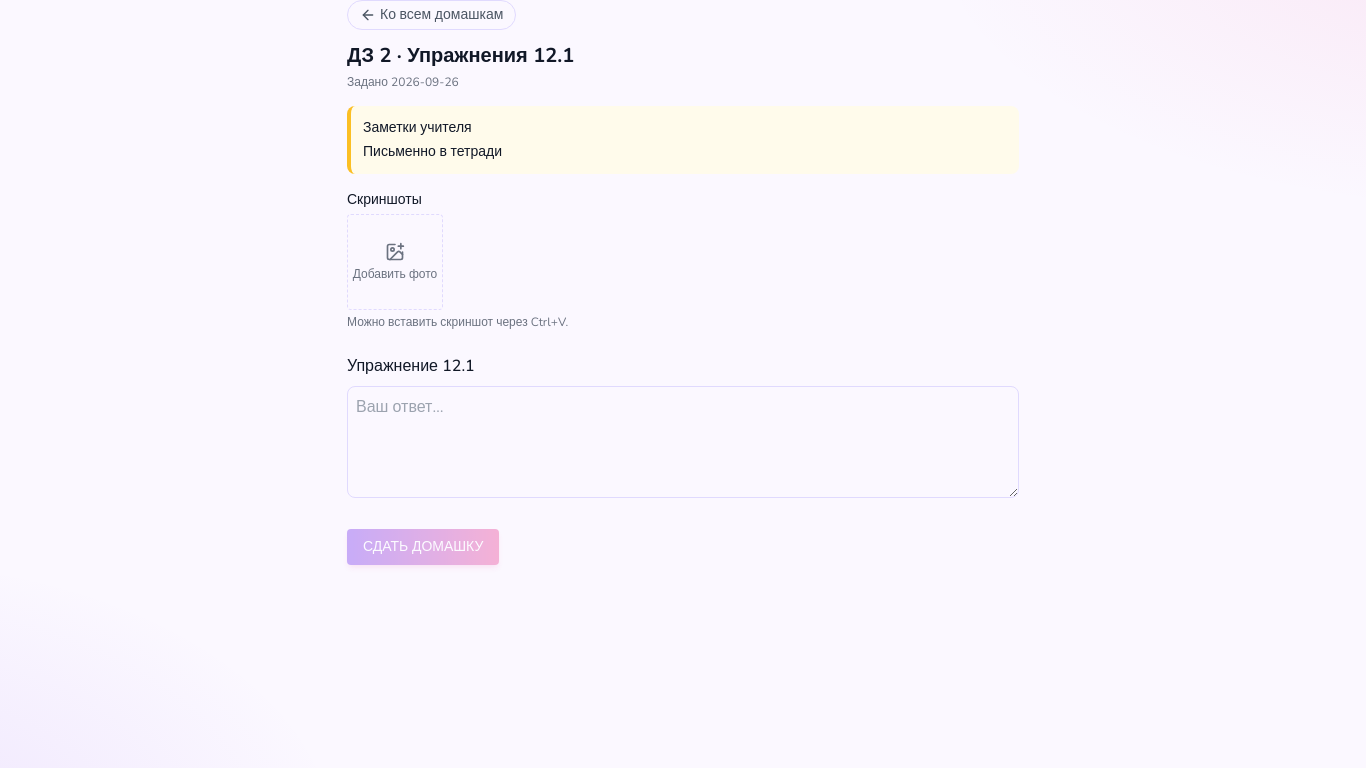
Test case: HomeworkRunnerPage with free-text homework › shows notes, saves a typed answer, and submits for review
Check: the text "Письменно в тетради" is shown, box [363,142,502,161]
Type "I was at home." into the text box named "Ответ: Упражнение 12.1" at {"x": 683, "y": 442}, box [347,386,1019,498]
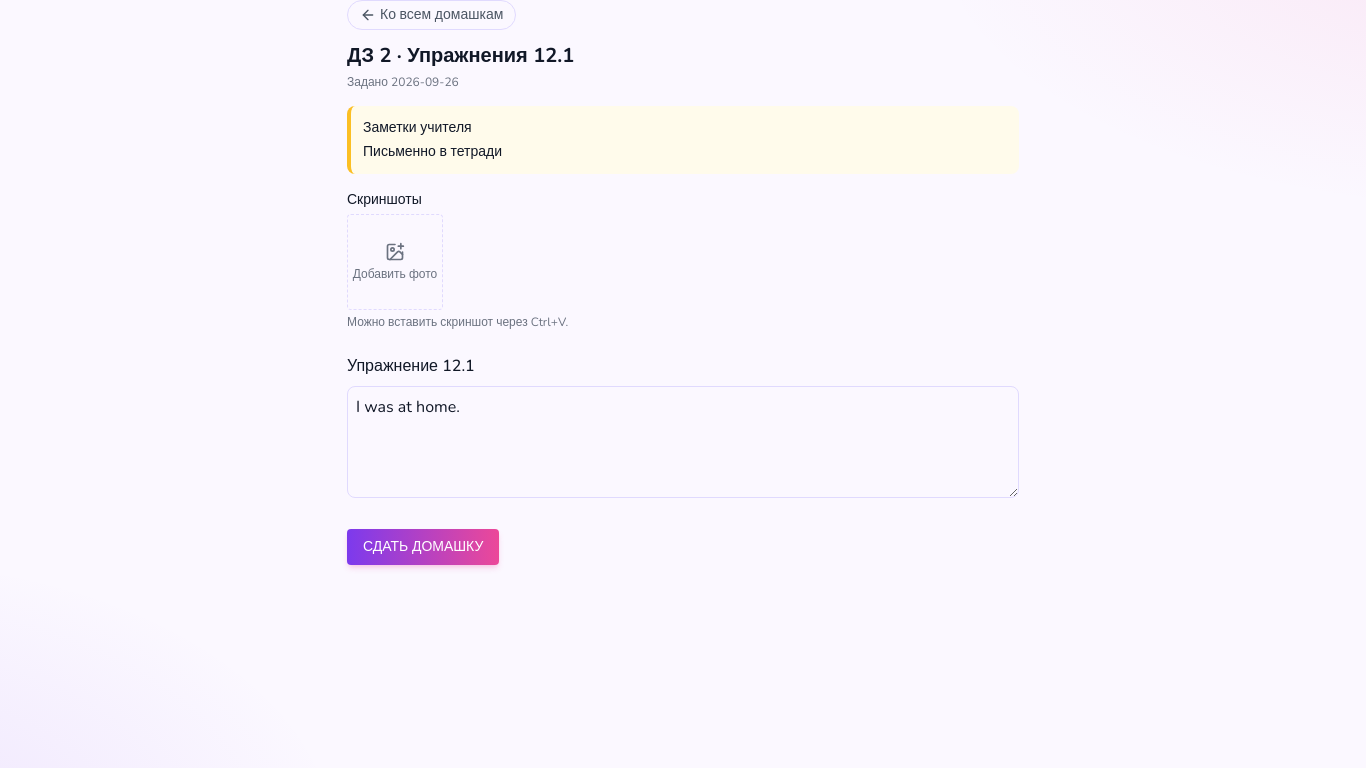
Click the button "СДАТЬ ДОМАШКУ" at {"x": 423, "y": 547}, box [347,529,499,565]
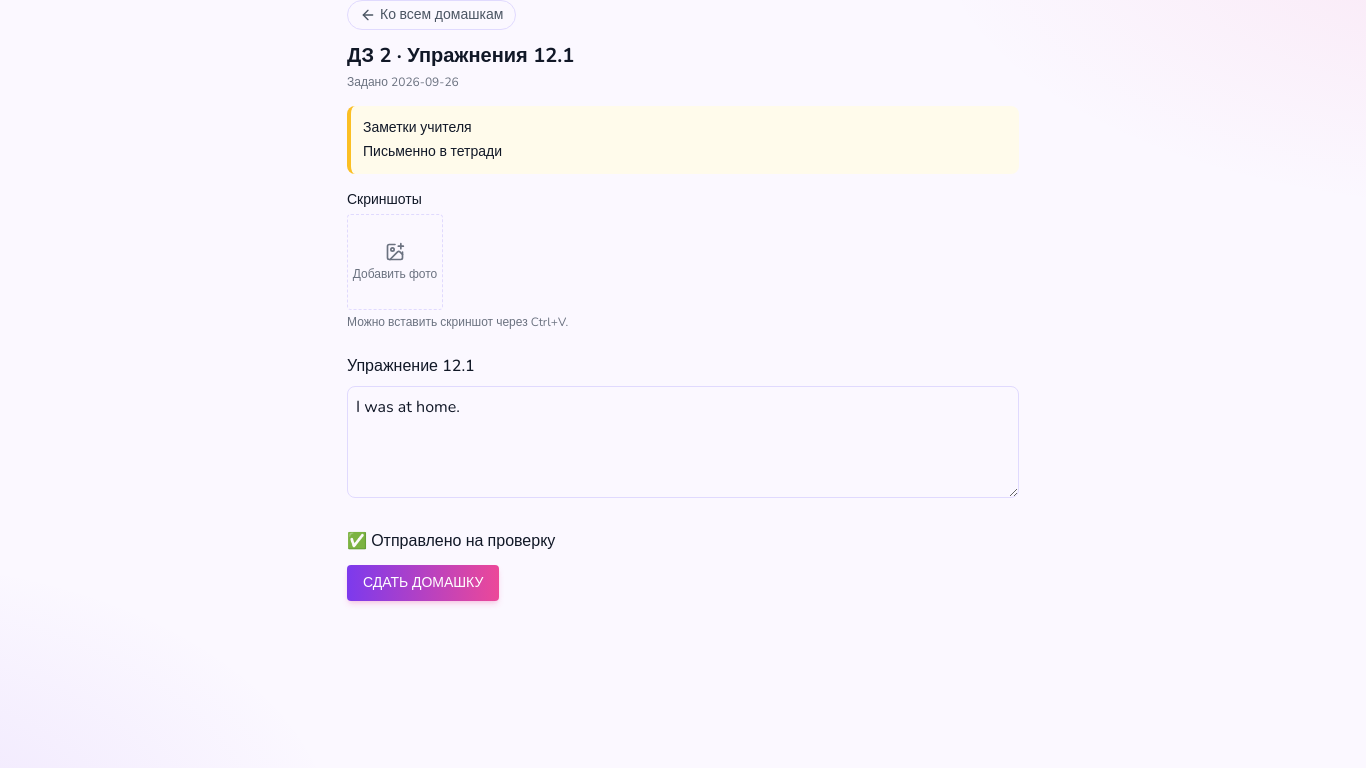
Check: the text "✅ Отправлено на проверку" is shown, box [347,530,555,552]
